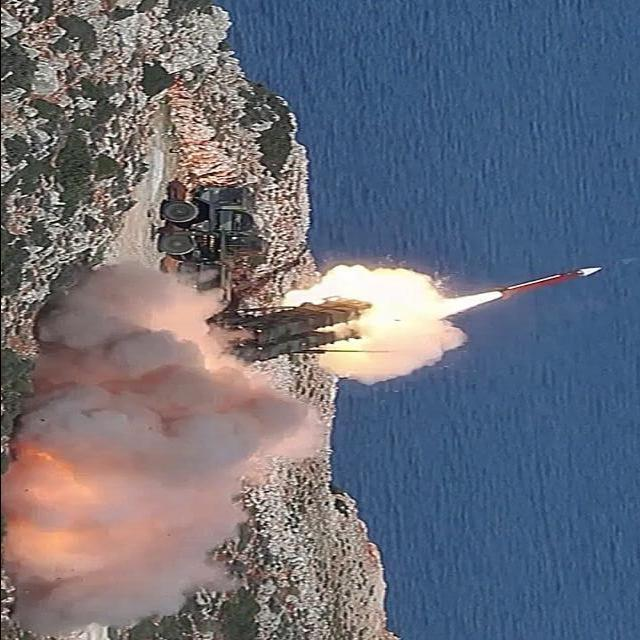missile: (497, 263, 610, 303)
